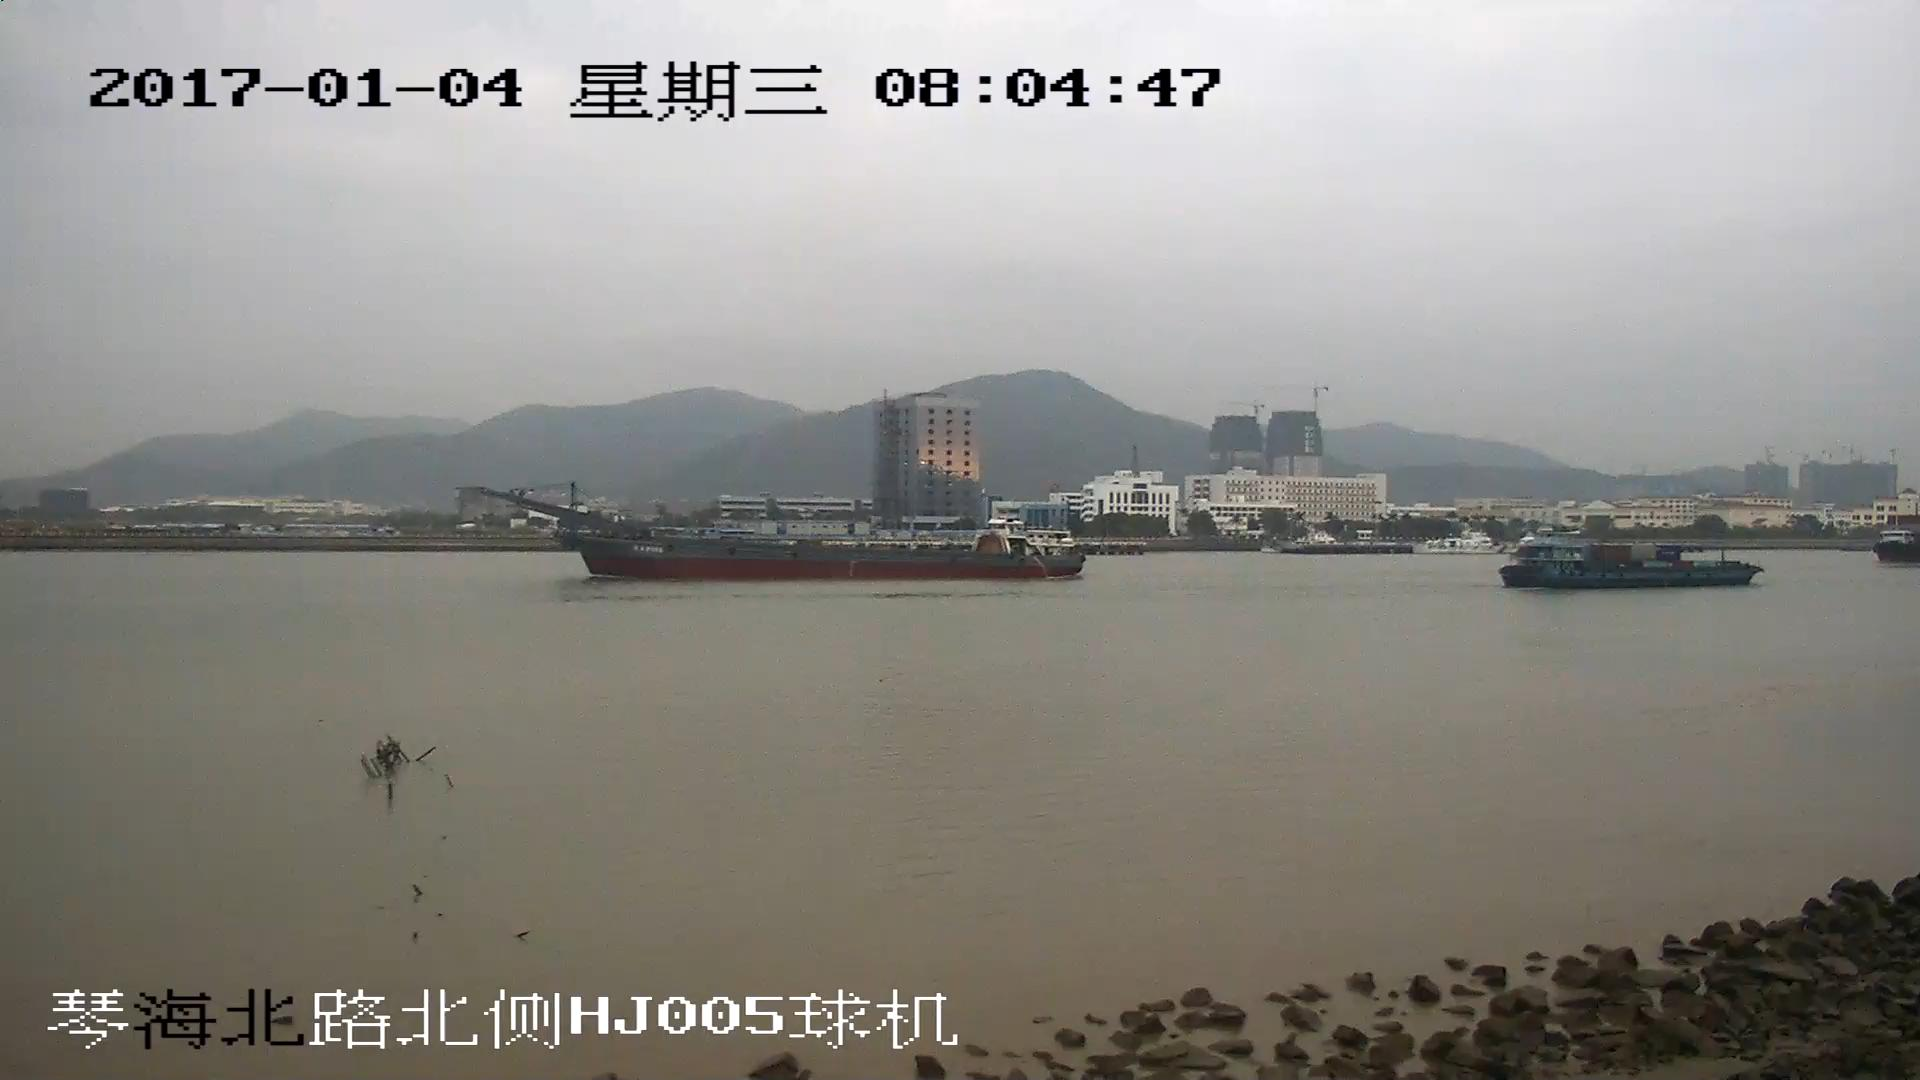bulk cargo carrier: (486, 487, 1086, 577)
container ship: (1500, 540, 1752, 587)
